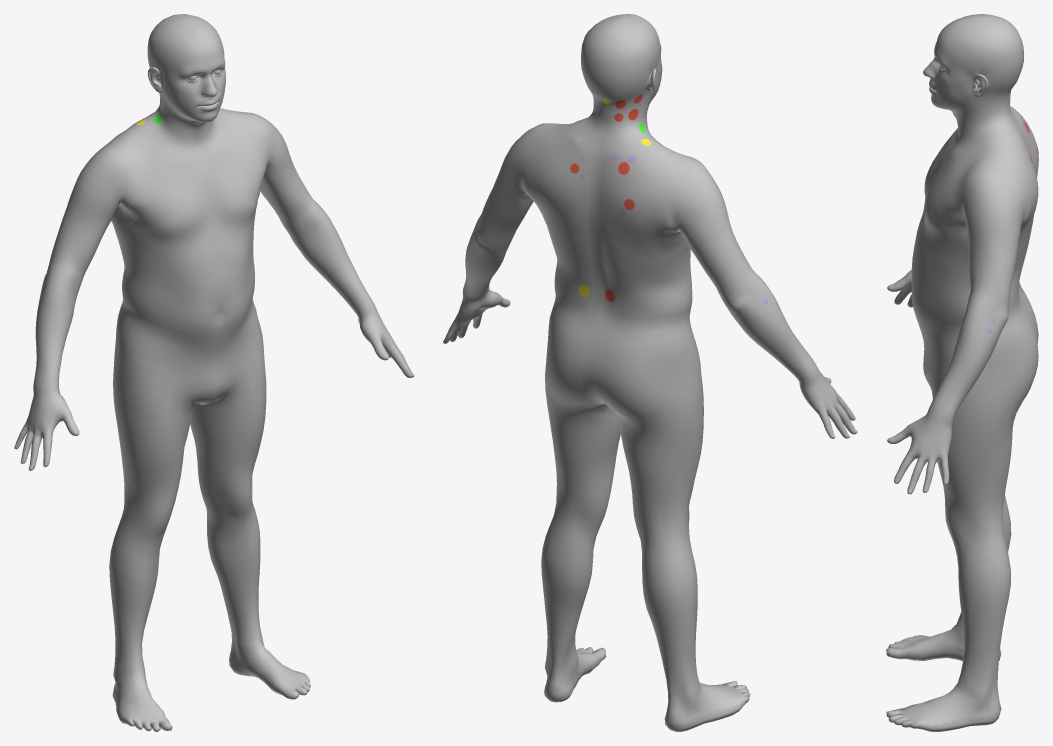
3 views of the same model, side by side, from view 1: azimuth 30°, elevation 25°; view 2: azimuth 150°, elevation 25°; view 3: azimuth 270°, elevation 25° (orthographic). The views are drawn at different scales.
Visible parts, largest first — view 1: Male 66in 160lbs-A-pose; view 2: Male 66in 160lbs-A-pose; view 3: Male 66in 160lbs-A-pose.
Part boxes in pixels (x1,y1,x2,y2): Male 66in 160lbs-A-pose: (14,14,414,731); Male 66in 160lbs-A-pose: (443,14,857,731); Male 66in 160lbs-A-pose: (886,14,1038,731).
Bounding box in the file's own units: 3.03 × 5.02 × 1.03.
Materials: 1 (1 with a texture image).
